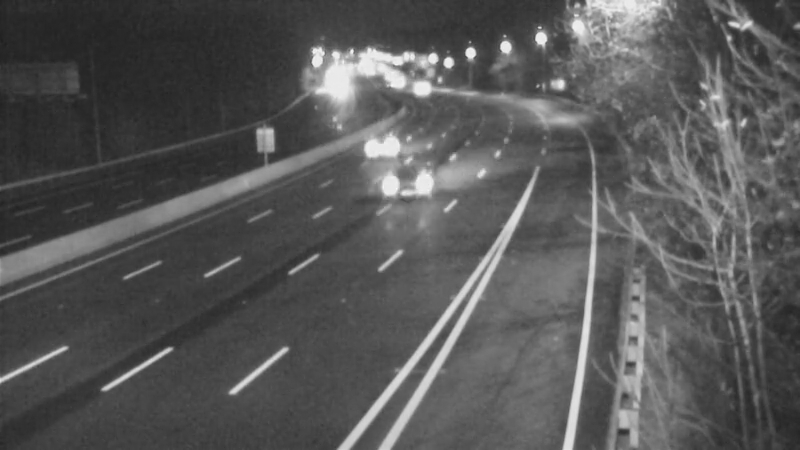vehicle: (361, 145, 441, 225), (393, 63, 443, 113), (351, 124, 401, 174), (315, 67, 365, 117)
